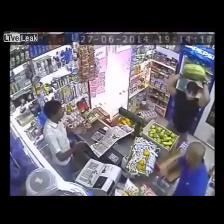person: (43, 101, 86, 181), (168, 74, 209, 146), (161, 142, 209, 195)
